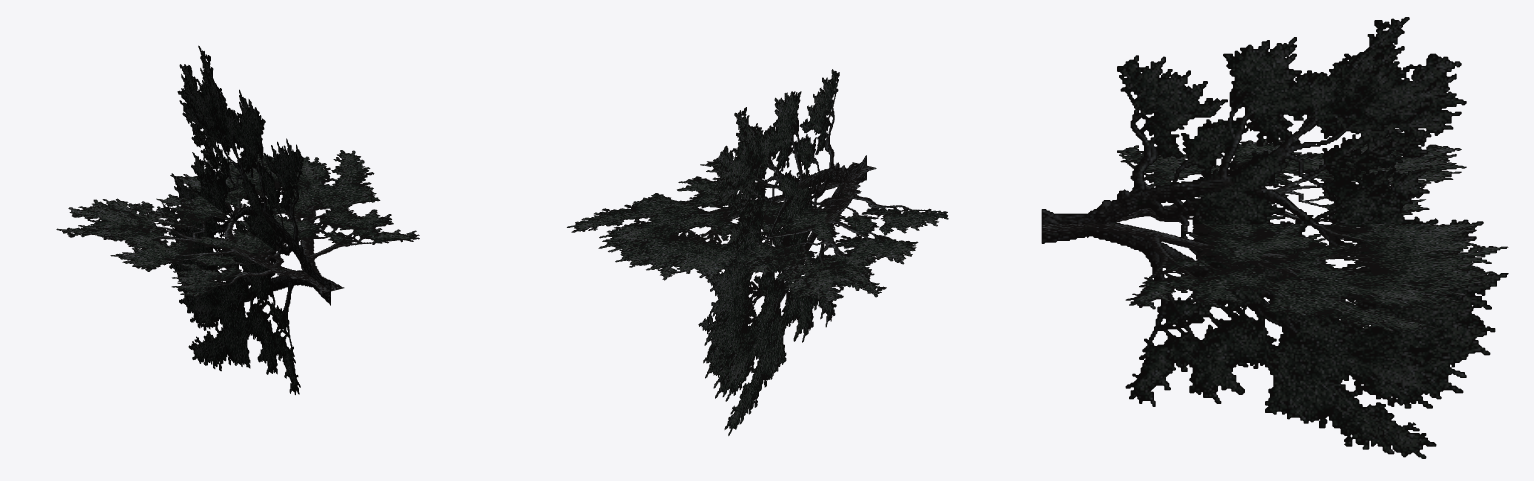
File: SM_EC_Tree_Cross_08.fbx
The picture shows the model from 3 angles, left to right: view 1: azimuth 30°, elevation 25°; view 2: azimuth 150°, elevation 25°; view 3: azimuth 270°, elevation 25°; orthographic projection. The views are drawn at different scales.
Visible parts, largest first — view 1: SM_EC_Tree_Cross_08; view 2: SM_EC_Tree_Cross_08; view 3: SM_EC_Tree_Cross_08.
Part boxes in pixels (x1=…): SM_EC_Tree_Cross_08: x1=56, y1=45, x2=419, y2=394; SM_EC_Tree_Cross_08: x1=567, y1=69, x2=948, y2=435; SM_EC_Tree_Cross_08: x1=1041, y1=17, x2=1508, y2=458.
Size of the model in its own units: 4.65 by 4.46 by 4.65.
